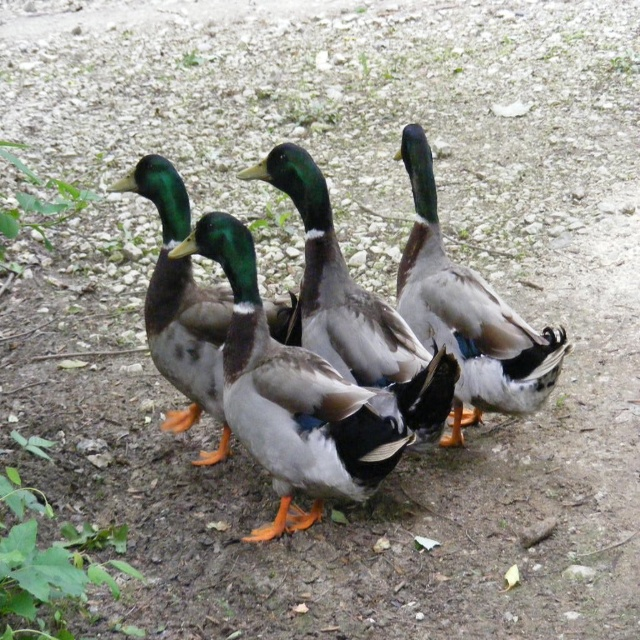Duck: (164, 215, 464, 545), (235, 146, 478, 456), (102, 153, 310, 473), (394, 124, 569, 452)
